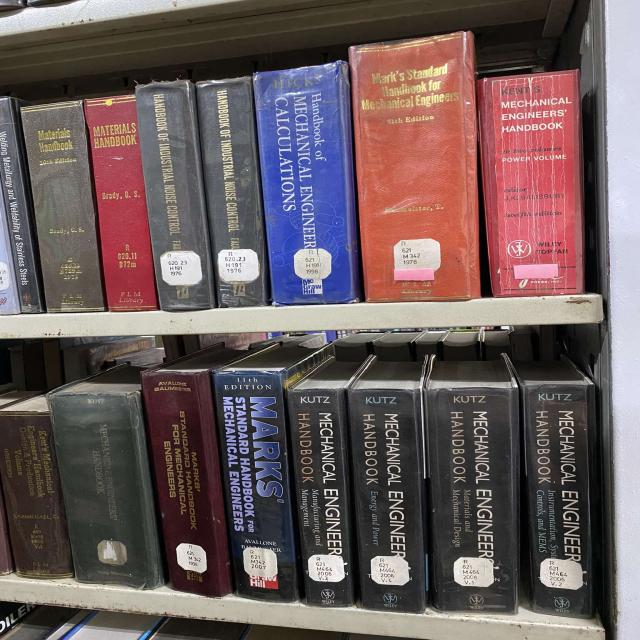book: (354, 33, 473, 304), (253, 63, 356, 305), (477, 69, 583, 298), (424, 387, 518, 616), (47, 395, 152, 589), (212, 371, 297, 602), (135, 80, 214, 309), (143, 370, 222, 598), (20, 101, 104, 311), (521, 385, 595, 618), (348, 389, 421, 612), (84, 95, 157, 311), (285, 389, 353, 607), (198, 77, 258, 306), (1, 409, 72, 578)
